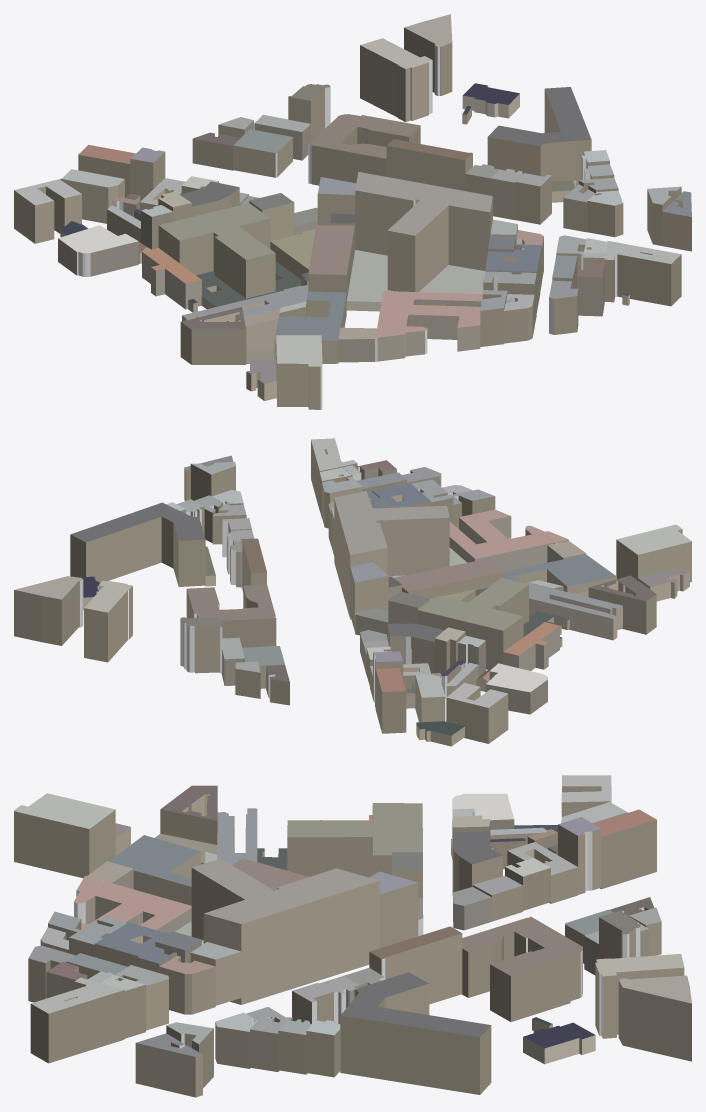
3 renders of one model, top to bottom at view 1: azimuth 30°, elevation 25°; view 2: azimuth 150°, elevation 25°; view 3: azimuth 270°, elevation 25°, orthographic. The views are drawn at different scales.
Visible parts, largest first — view 1: tuile; view 2: tuile; view 3: tuile.
Boxes of the visible parts, bbox=[...] form: tuile: bbox=[14, 14, 691, 409]; tuile: bbox=[14, 438, 691, 746]; tuile: bbox=[14, 775, 691, 1097].
Size of the model in its own units: 272 by 42.87 by 270.
